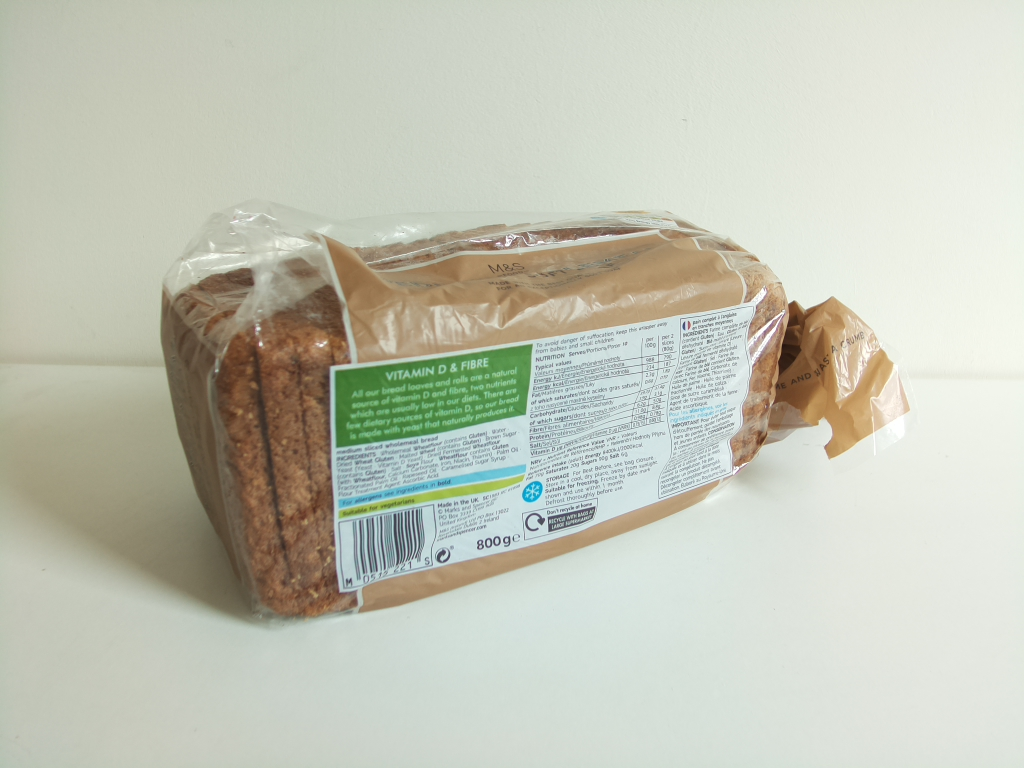bread: (156, 203, 910, 624)
